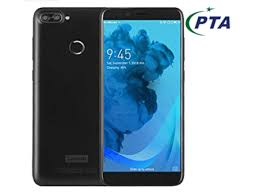lenovo: (29, 5, 185, 189), (98, 8, 187, 188)
